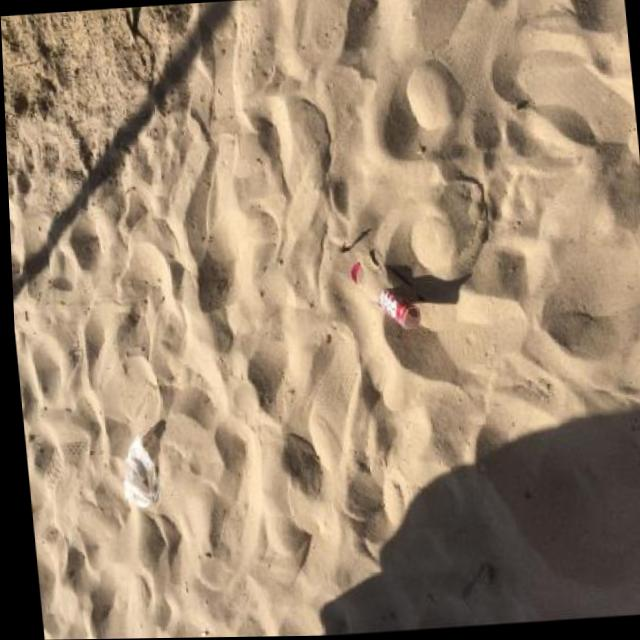cardboard: (349, 260, 422, 335)
plastic: (119, 433, 161, 510)
